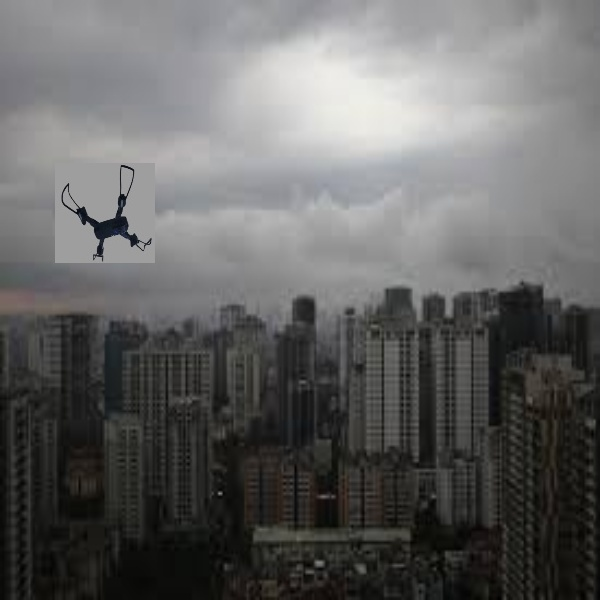drone: (59, 161, 153, 263)
